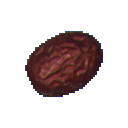gd: (5, 19, 122, 112)
